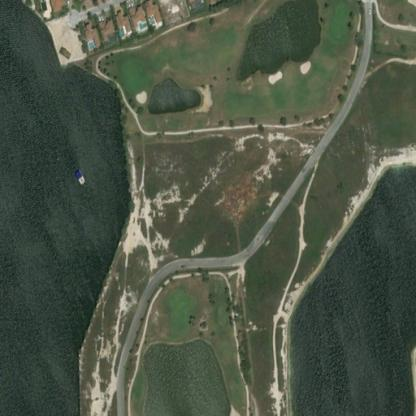ship: (71, 164, 86, 186)
